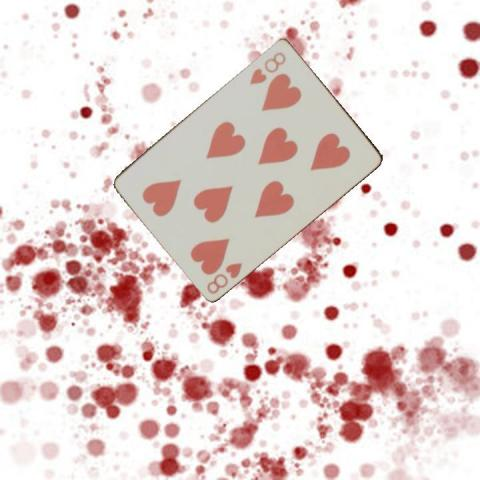8h: (246, 48, 288, 86), (203, 259, 244, 295)
